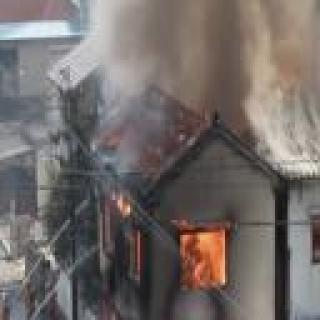fire: (99, 180, 305, 320), (319, 214, 320, 263)
